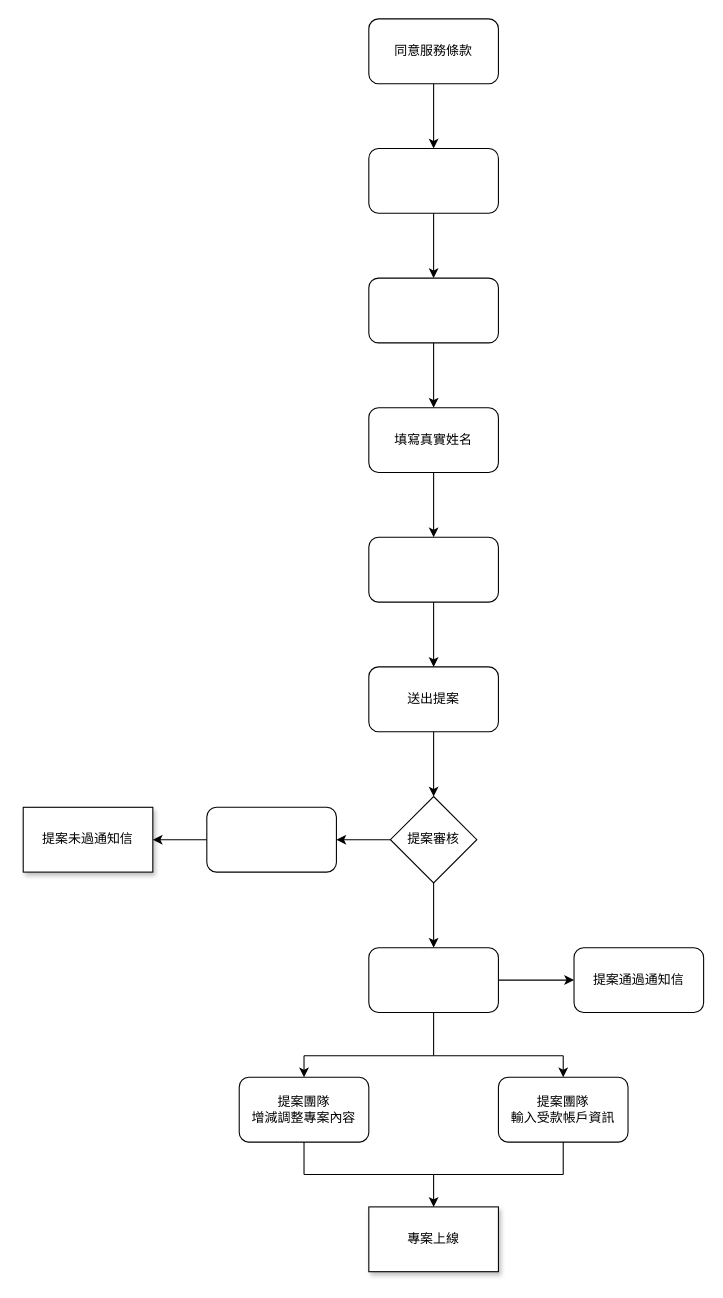
Image size: 723x1298. Some labels were removed from this diagram. The shapes that lost their labels are listed below. From the top down, each one's centre as x and y in pixels, then its label:
point (433, 180): 完成會員註冊
point (433, 310): 信箱驗證
point (433, 569): 選擇提案類型： 群眾集資 / 預購 / 訂閱
point (271, 839): 審核未通過
point (433, 980): 審核通過
